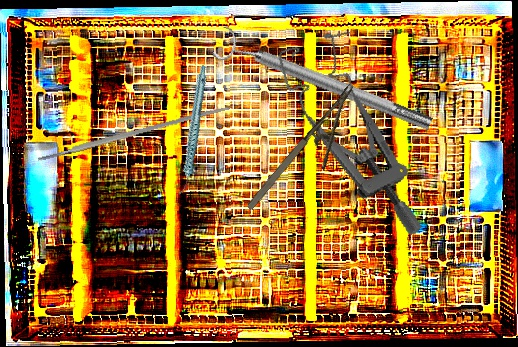Fixation Ring: (211, 22, 437, 144)
Handpiece: (153, 64, 232, 197)
Needle Holder: (242, 82, 380, 228)
Scalpel Handle: (36, 103, 231, 163)
Speculum: (273, 20, 427, 258)
